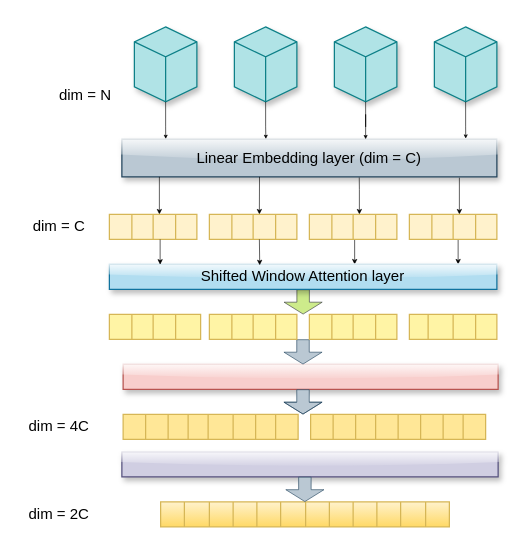
Some shapes in this 528 by 555 pixel diagram are drawn without their labels. The shapes that lost their labels are listed below. From the top down, each one's centre as x and y in pixels, then its label:
At point (311, 378): "Merging layer".
At point (311, 466): "Linear Layer (dim= 4C to 2C)".
